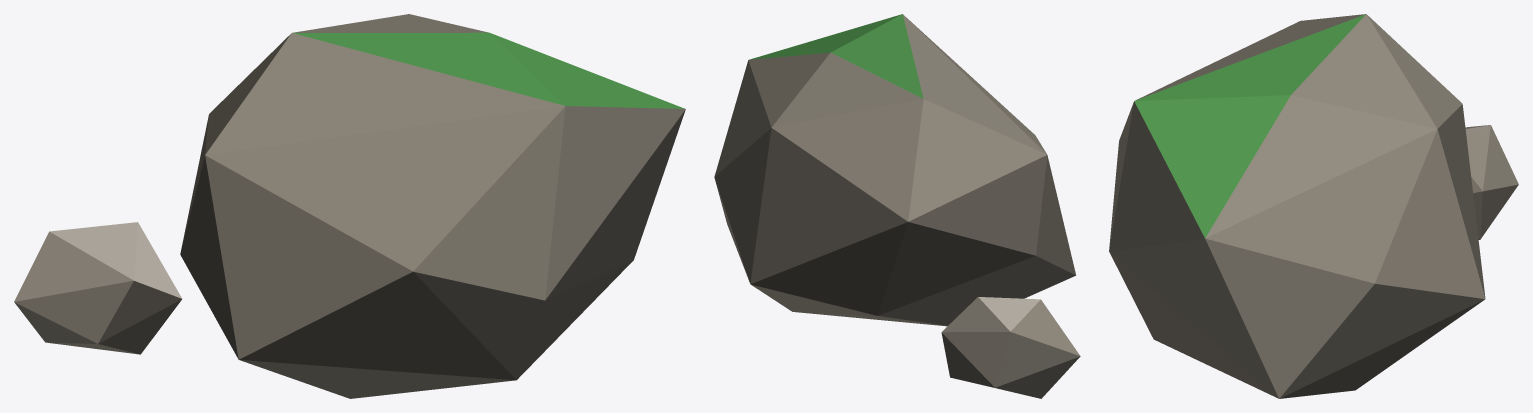
Rendered from rock_c.glb.
The picture shows the model from 3 angles, left to right: view 1: azimuth 30°, elevation 25°; view 2: azimuth 150°, elevation 25°; view 3: azimuth 270°, elevation 25°; orthographic projection. The views are drawn at different scales.
Visible parts, largest first — view 1: rock_c; view 2: rock_c; view 3: rock_c.
Boxes of the visible parts, x1,y1,x2,y2 form: rock_c: (14,14,685,398); rock_c: (714,14,1080,398); rock_c: (1109,14,1518,398).
Bounding box in the file's own units: 1.6 × 0.9242 × 1.11.
